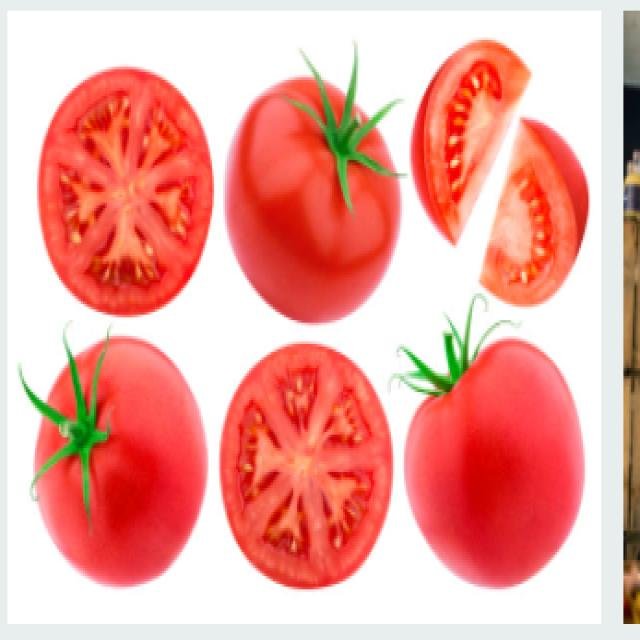Tomato: (387, 320, 594, 584), (210, 65, 404, 326), (12, 335, 213, 585), (408, 30, 584, 313), (211, 346, 411, 578), (32, 57, 205, 303)
